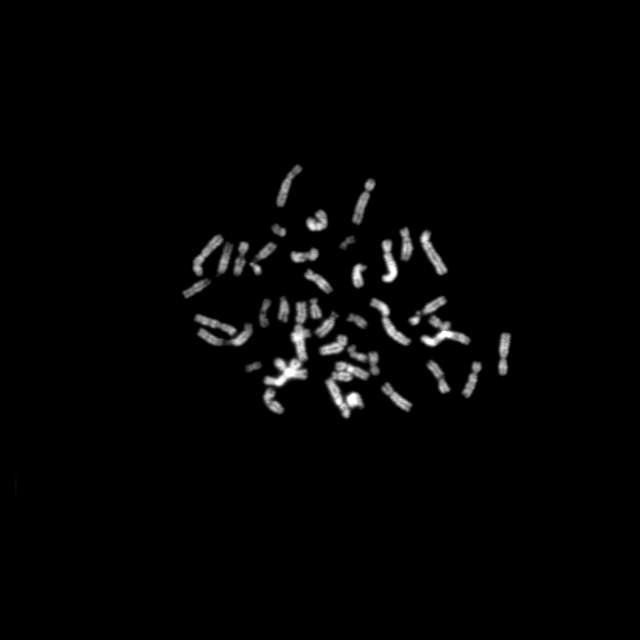chromosome: (369, 298, 411, 344), (197, 324, 253, 346), (192, 235, 222, 275), (420, 229, 446, 275), (353, 178, 375, 224), (277, 164, 301, 206), (264, 360, 300, 386), (326, 379, 350, 418), (194, 314, 236, 336), (382, 383, 412, 411), (421, 329, 469, 346), (380, 240, 398, 282), (428, 361, 450, 394), (304, 270, 332, 294), (276, 357, 306, 379), (182, 278, 210, 300), (335, 363, 369, 381), (463, 363, 481, 397), (316, 312, 338, 338), (264, 389, 284, 415), (320, 335, 346, 355), (218, 242, 234, 274), (499, 333, 511, 375), (234, 242, 248, 276), (306, 210, 328, 230), (422, 296, 446, 314), (401, 228, 413, 260), (296, 324, 306, 362), (348, 343, 368, 362), (292, 249, 318, 263), (256, 243, 276, 260), (353, 264, 367, 288), (348, 313, 367, 329), (260, 298, 270, 328), (346, 391, 364, 407), (277, 296, 288, 322), (430, 316, 450, 330), (309, 298, 321, 318), (291, 328, 311, 339), (369, 352, 379, 374), (296, 302, 306, 322), (408, 310, 420, 326), (340, 237, 354, 250), (332, 372, 352, 381), (245, 362, 261, 372), (273, 225, 285, 238), (250, 262, 262, 274)
